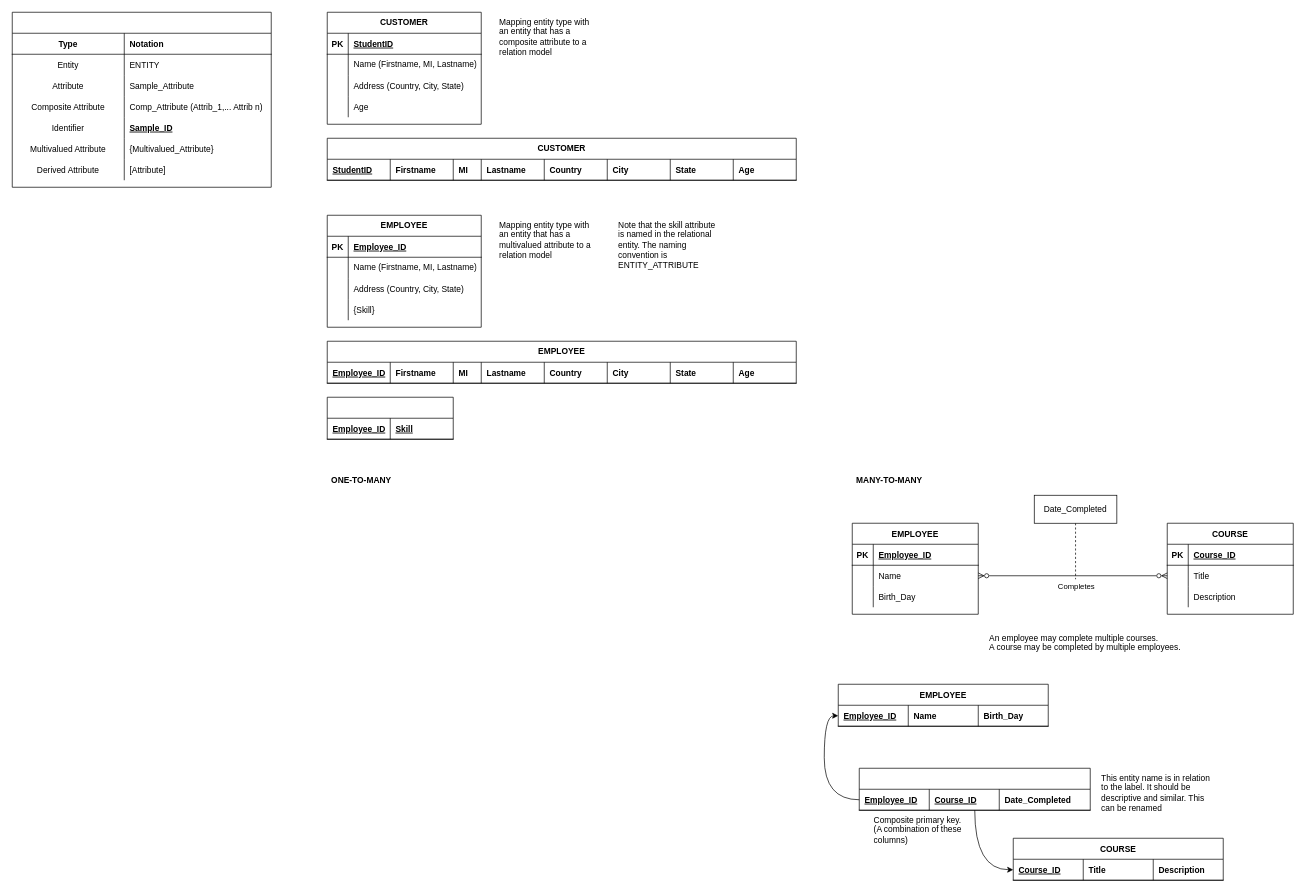
Some shapes in this 1306 by 893 pixel diagram are drawn without their labels. The shapes that lost their labels are listed below. From the top down, each one's box as (x1, y1, x2, y2) in pixels, then its label:
(12, 12, 271, 187): Syntax & Notations
(327, 397, 453, 439): EMPLOYEE_SKILL
(859, 768, 1090, 810): COMPLETION_RECORD
